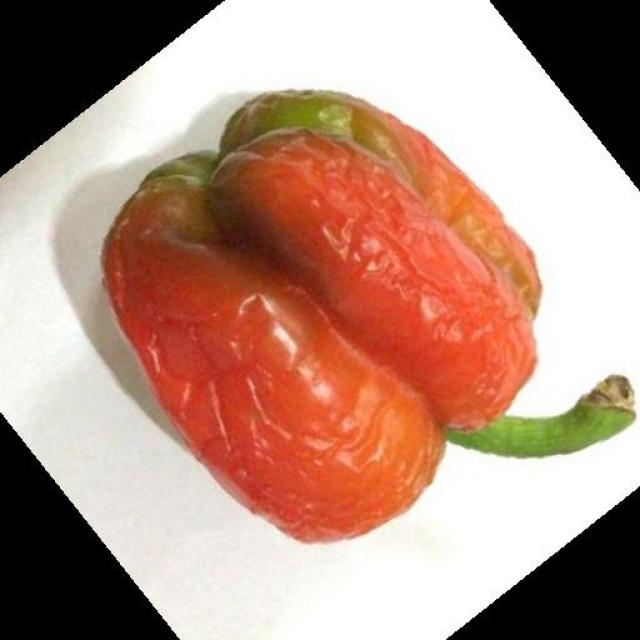Stale_Capsicum: (89, 64, 627, 547)
